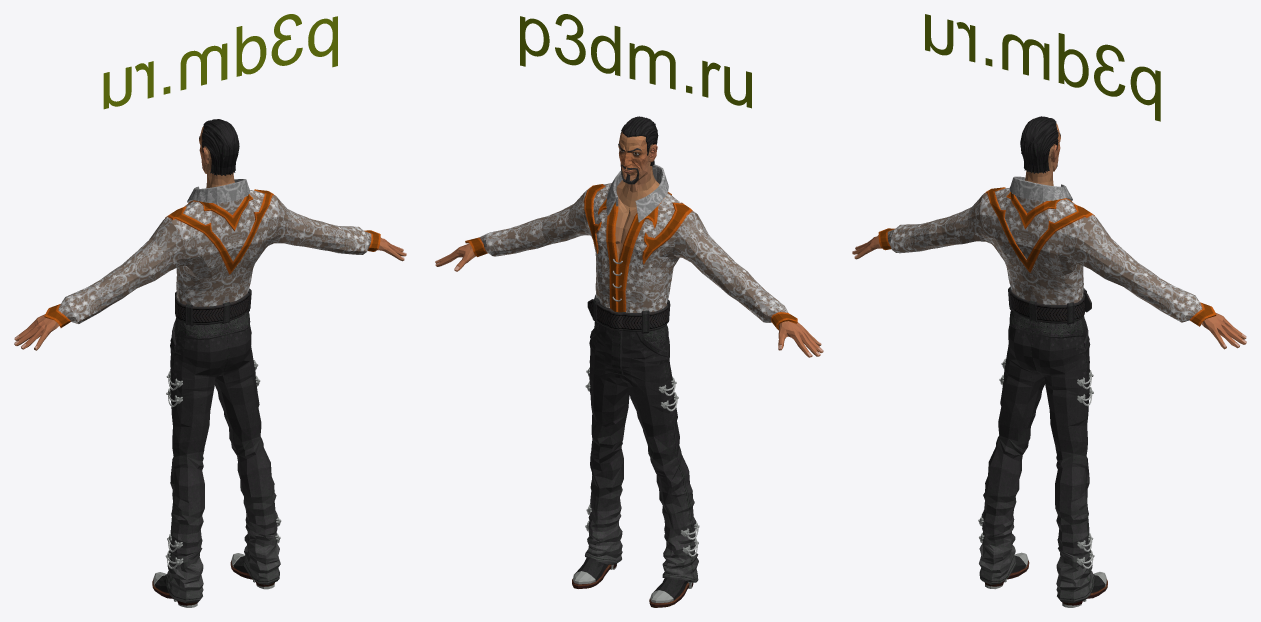
File: p3dm.ru_Macho.obj
3 views of the same model, side by side, from view 1: azimuth 30°, elevation 25°; view 2: azimuth 150°, elevation 25°; view 3: azimuth 330°, elevation 25° (orthographic).
Visible parts, largest first — view 1: Mesh_0023, Mesh_0022, Text001, Mesh_0025, Mesh_0027; view 2: Mesh_0023, Mesh_0022, Text001, Mesh_0025, Mesh_0027; view 3: Mesh_0023, Mesh_0022, Text001, Mesh_0025, Mesh_0027.
Boxes of the visible parts, <box> form: Mesh_0023: <box>152,288,281,607</box>; Mesh_0022: <box>44,179,380,327</box>; Text001: <box>103,14,337,109</box>; Mesh_0025: <box>199,119,239,188</box>; Mesh_0027: <box>14,237,406,350</box>; Mesh_0023: <box>572,294,699,607</box>; Mesh_0022: <box>465,164,797,330</box>; Text001: <box>520,14,751,108</box>; Mesh_0025: <box>615,116,659,262</box>; Mesh_0027: <box>435,243,823,357</box>; Mesh_0023: <box>978,286,1107,607</box>; Mesh_0022: <box>878,176,1216,326</box>; Text001: <box>925,14,1160,121</box>; Mesh_0025: <box>1020,116,1060,185</box>; Mesh_0027: <box>852,235,1246,349</box>.
Size of the model in its own units: 154 by 211 by 27.53.
